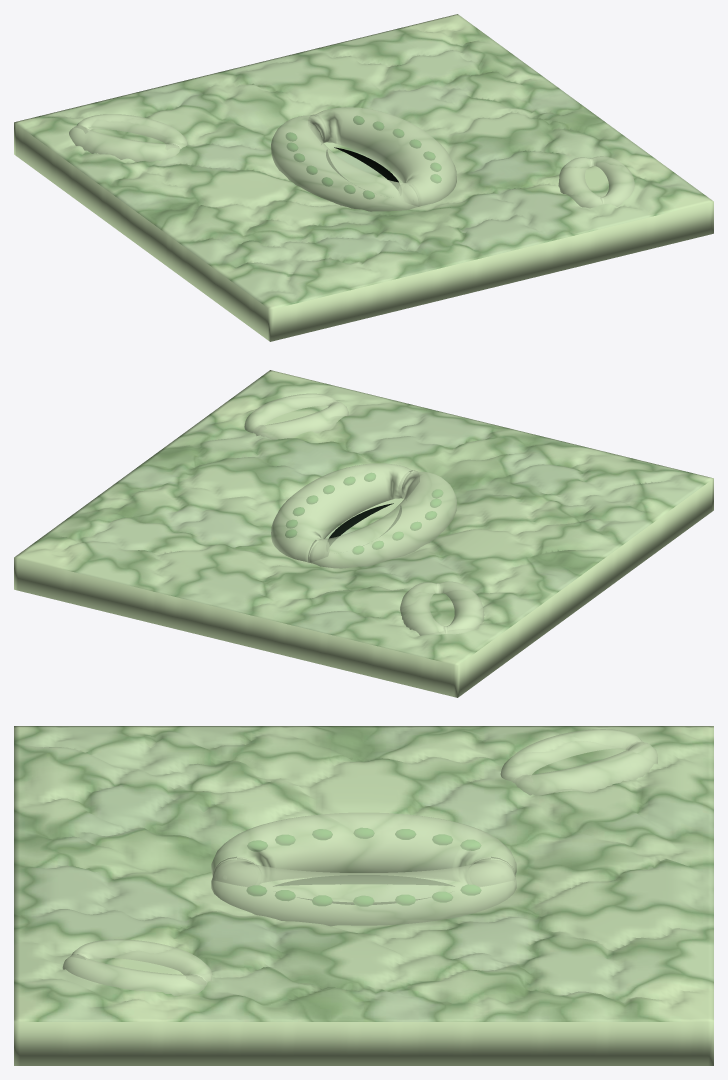
The model's file is 03_stoma.glb.
The picture shows the model from 3 angles, top to bottom: view 1: azimuth 30°, elevation 25°; view 2: azimuth 150°, elevation 25°; view 3: azimuth 270°, elevation 25°; orthographic projection. The views are drawn at different scales.
Visible parts, largest first — view 1: Epidermis_Surface, Guard_Cell_R, Guard_Cell_L, Stoma_Context_A, Stoma_Context_B, Guard_Cell_R_Chloroplasts, Guard_Cell_L_Chloroplasts, Stoma_Pore; view 2: Epidermis_Surface, Guard_Cell_R, Guard_Cell_L, Stoma_Context_A, Stoma_Context_B, Guard_Cell_L_Chloroplasts, Guard_Cell_R_Chloroplasts, Stoma_Pore; view 3: Epidermis_Surface, Guard_Cell_L, Guard_Cell_R, Stoma_Context_A, Stoma_Context_B, Stoma_Pore, Guard_Cell_R_Chloroplasts, Guard_Cell_L_Chloroplasts.
Part boxes in pixels (left/top/right/bottom): Epidermis_Surface: left=14, top=14, right=713, bottom=341; Guard_Cell_R: left=308, top=107, right=456, bottom=206; Guard_Cell_L: left=271, top=114, right=419, bottom=211; Stoma_Context_A: left=69, top=114, right=187, bottom=161; Stoma_Context_B: left=558, top=156, right=634, bottom=208; Guard_Cell_R_Chloroplasts: left=353, top=116, right=441, bottom=183; Guard_Cell_L_Chloroplasts: left=286, top=132, right=374, bottom=199; Stoma_Pore: left=326, top=147, right=399, bottom=189; Epidermis_Surface: left=14, top=370, right=713, bottom=697; Guard_Cell_R: left=271, top=463, right=419, bottom=562; Guard_Cell_L: left=308, top=470, right=456, bottom=568; Stoma_Context_A: left=400, top=581, right=484, bottom=635; Stoma_Context_B: left=244, top=393, right=348, bottom=439; Guard_Cell_L_Chloroplasts: left=352, top=489, right=442, bottom=554; Guard_Cell_R_Chloroplasts: left=285, top=473, right=375, bottom=537; Stoma_Pore: left=328, top=503, right=401, bottom=545; Epidermis_Surface: left=14, top=726, right=713, bottom=1065; Guard_Cell_L: left=211, top=812, right=516, bottom=886; Guard_Cell_R: left=211, top=856, right=516, bottom=926; Stoma_Context_A: left=500, top=729, right=657, bottom=795; Stoma_Context_B: left=62, top=939, right=212, bottom=996; Stoma_Pore: left=273, top=875, right=454, bottom=904; Guard_Cell_R_Chloroplasts: left=246, top=884, right=481, bottom=906; Guard_Cell_L_Chloroplasts: left=247, top=828, right=480, bottom=851.
Size of the model in its own units: 1.3 by 0.1457 by 1.3.
Materials: 4 (1 with a texture image).
